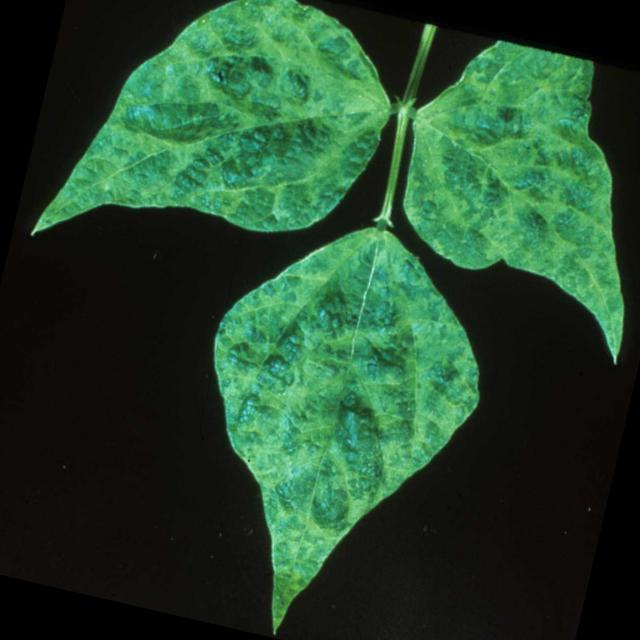Mosaic Virus: (148, 215, 487, 640), (36, 0, 401, 307), (374, 34, 640, 341)
